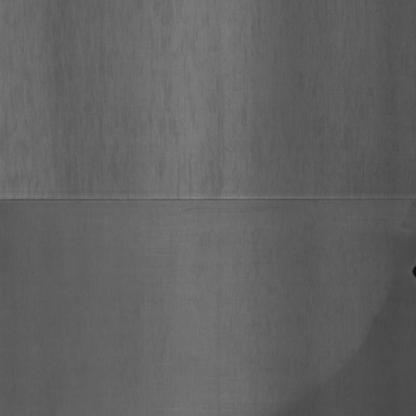punching_hole: (411, 262, 416, 278)
welding_line: (0, 186, 416, 216)
